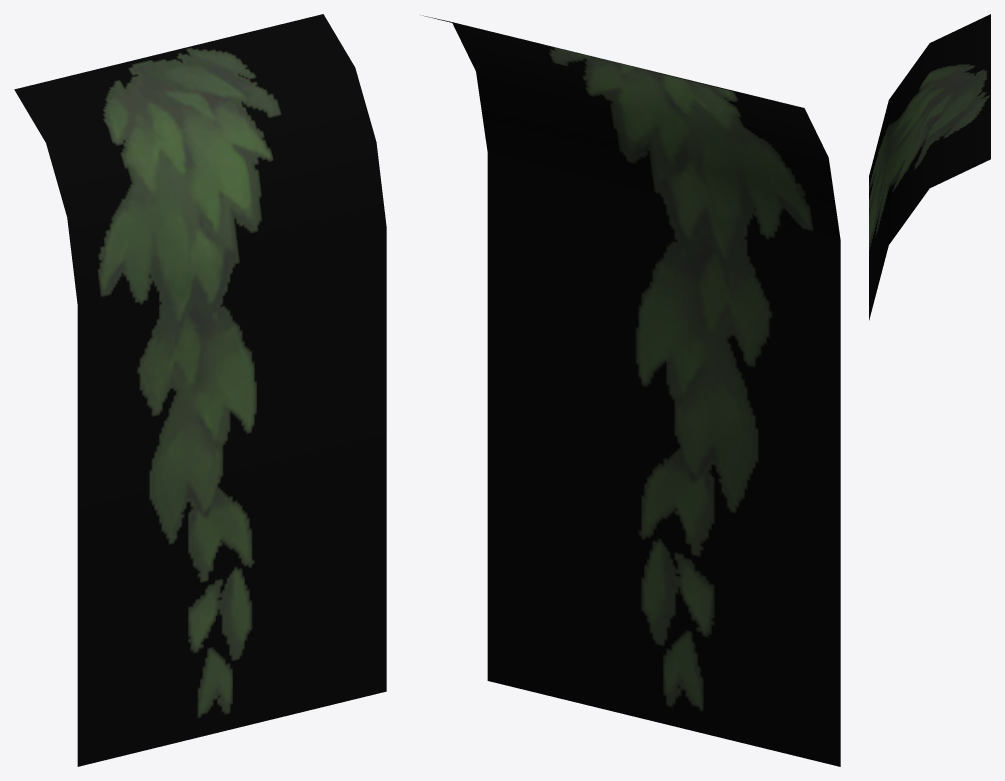
Rendered from yw_newshanlin_chuiqing_001.FBX.
The picture shows the model from 3 angles, left to right: view 1: azimuth 30°, elevation 25°; view 2: azimuth 150°, elevation 25°; view 3: azimuth 270°, elevation 25°; orthographic projection. The views are drawn at different scales.
Visible parts, largest first — view 1: yw_newshanlin_chuiqing_001; view 2: yw_newshanlin_chuiqing_001; view 3: yw_newshanlin_chuiqing_001.
Boxes of the visible parts, x1=… form: yw_newshanlin_chuiqing_001: x1=14, y1=14, x2=386, y2=766; yw_newshanlin_chuiqing_001: x1=423, y1=15, x2=840, y2=766; yw_newshanlin_chuiqing_001: x1=869, y1=14, x2=990, y2=320.
Size of the model in its own units: 30.26 by 10.73 by 59.
